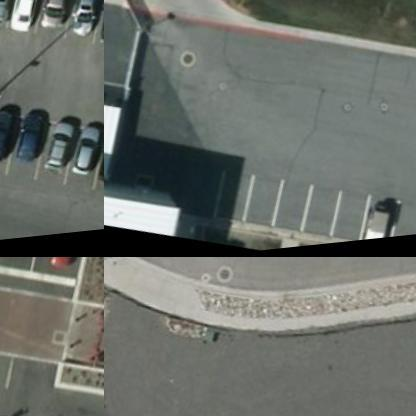car: (37, 117, 83, 185), (6, 108, 52, 176), (66, 124, 103, 192), (33, 0, 80, 44), (354, 202, 398, 246), (6, 0, 53, 39), (63, 0, 103, 43), (0, 103, 25, 171), (0, 0, 25, 38), (44, 257, 88, 276), (92, 134, 103, 202)
